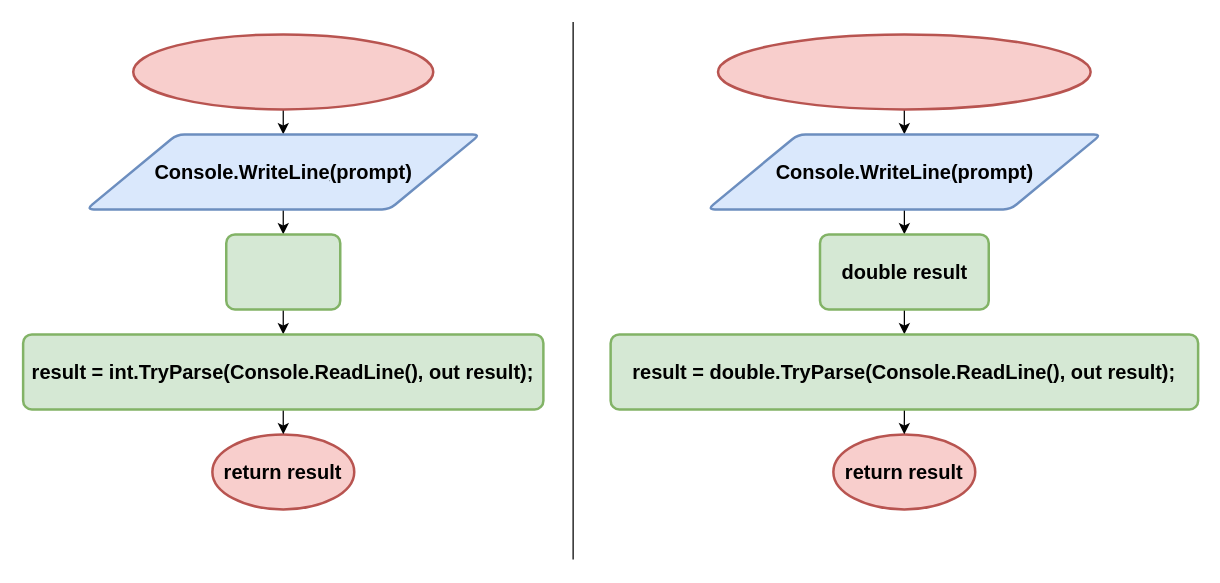
Image size: 1220x583. Some labels were removed from this diagram. The shapes that lost their labels are listed below. From the top down, each one's centre as x and y in pixels, then its label:
the point at 282,71: int ReadInt32(string prompt)
the point at 903,71: double ReadDouble(string prompt)
the point at 282,271: int result
